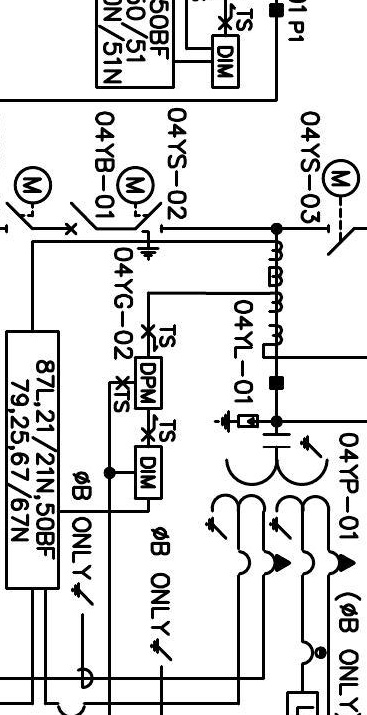115_1way_ds_w_motor: (321, 158, 361, 257), (5, 165, 53, 234)
115_3ways_ds_w_motor: (115, 165, 164, 262)
115_breaker: (65, 201, 98, 236)
115_cvt_1p: (204, 432, 356, 578)
115_la: (213, 409, 259, 434)
DIM: (211, 34, 241, 90), (133, 445, 163, 500)
DPM: (134, 356, 163, 410)
